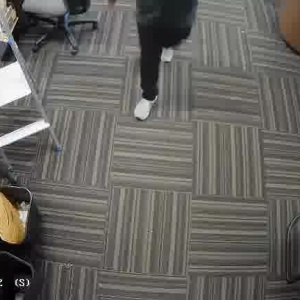person: (127, 0, 198, 120)
